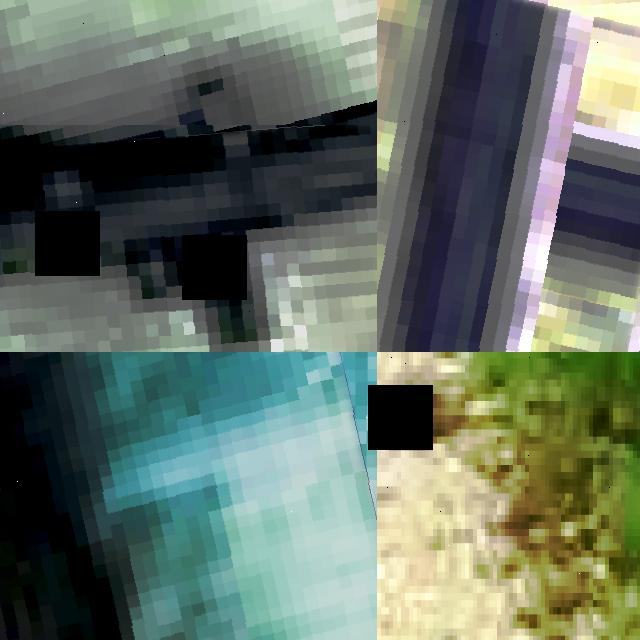arms: (0, 0, 377, 307), (0, 352, 377, 640), (377, 0, 640, 352), (0, 125, 377, 352), (377, 233, 640, 352), (377, 0, 640, 107)
